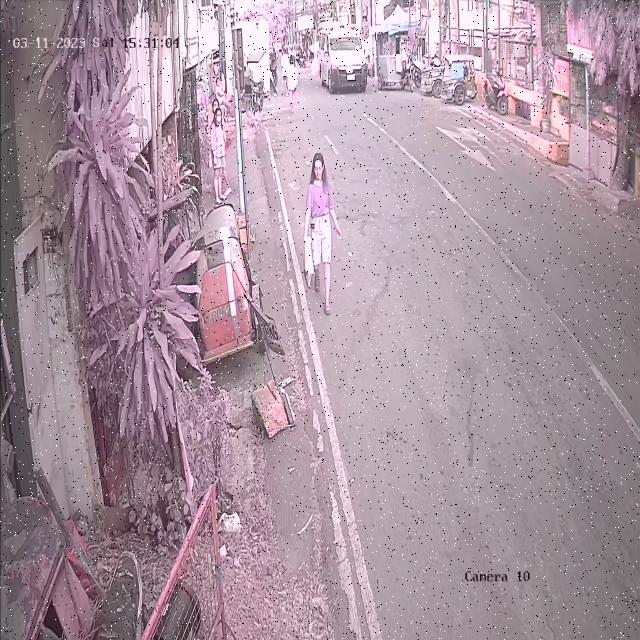human: (304, 152, 341, 316)
trash: (302, 227, 314, 288)
